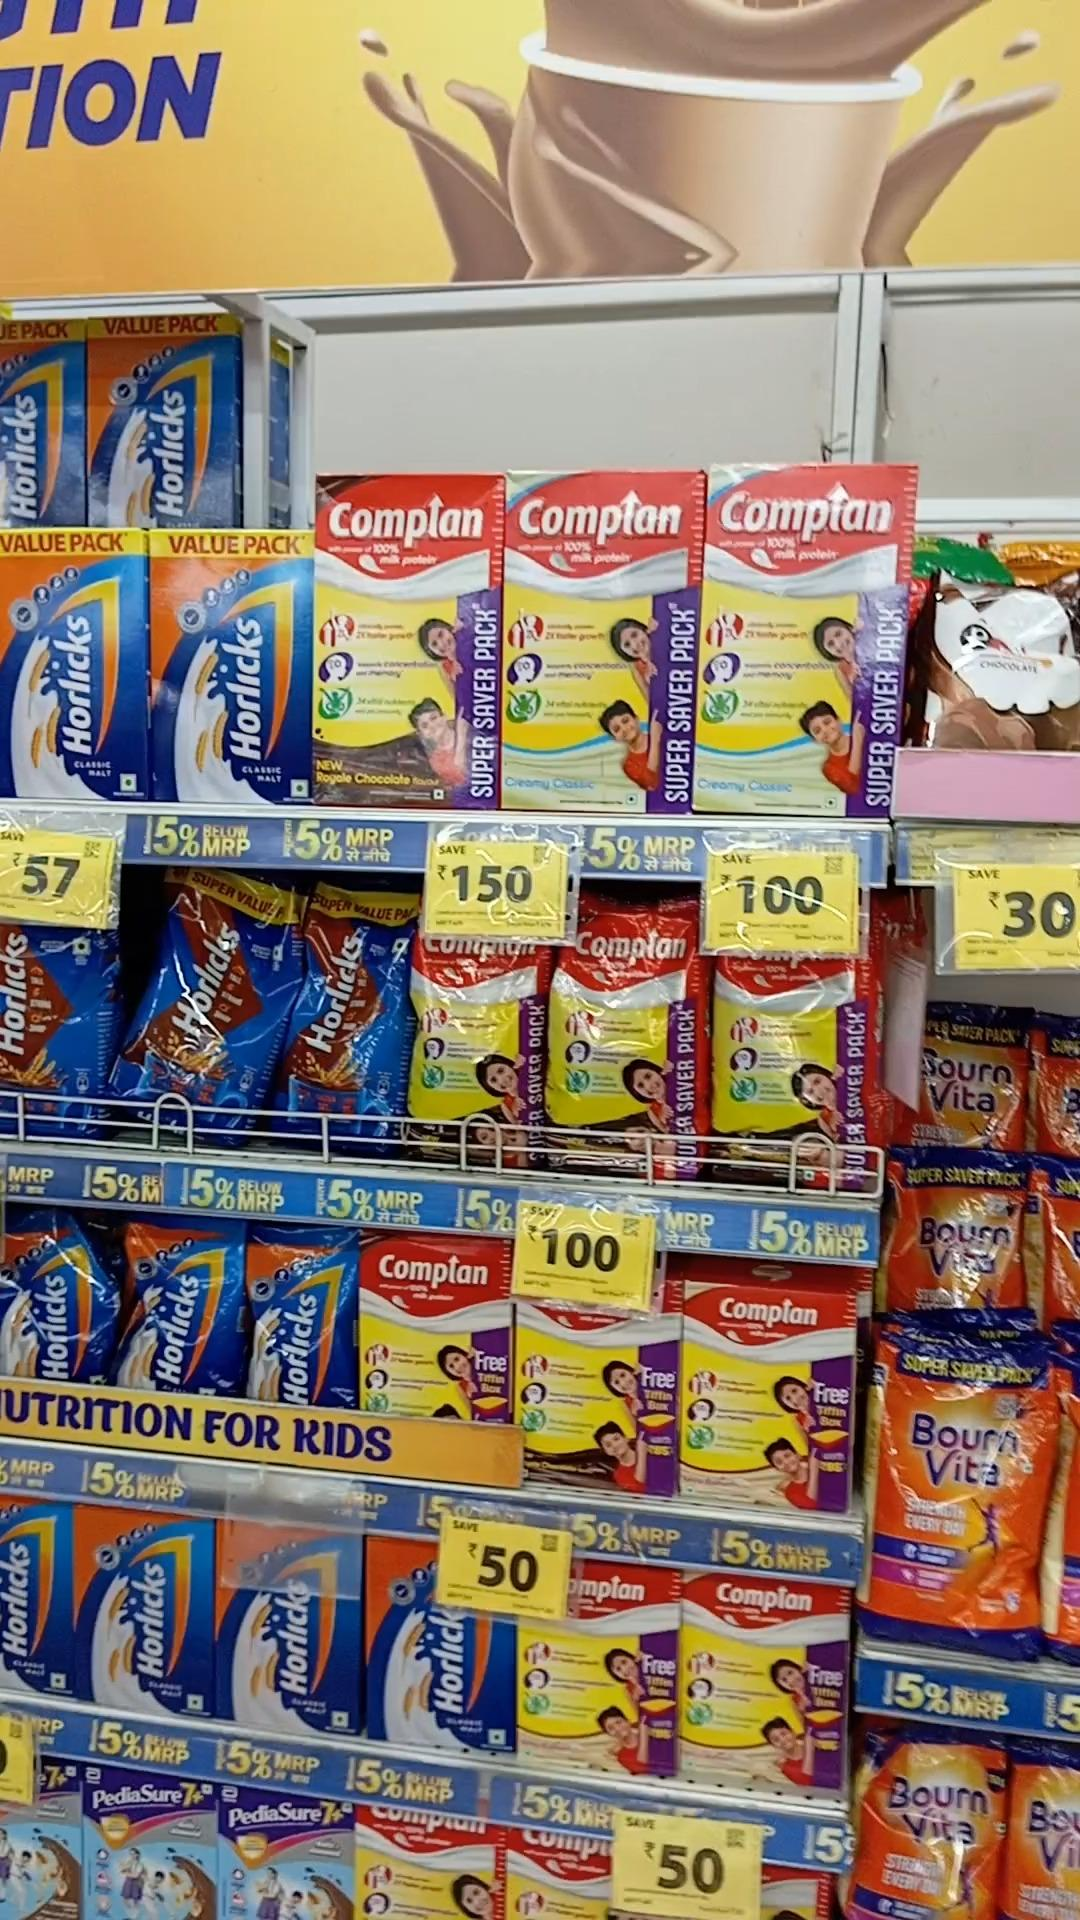BOURN_VITA_1_KG_POUCH: (872, 1338, 1056, 1644)
BOURN_VITA_750_G_POUCH: (845, 1725, 1011, 1920)
COMPLAN_CHOCOLATE_1_KG_PACK: (316, 476, 512, 808)
COMPLAN_CHOCOLATE_500_GMS_PACK: (517, 1263, 674, 1491), (356, 1242, 518, 1425)
COMPLAN_KESAR_BADAM_500_GMS_PACK: (683, 1295, 862, 1514), (516, 1563, 678, 1778), (684, 1585, 848, 1788)
COMPLAN_RC_POUCH_700_GMS_12: (551, 907, 707, 1174), (715, 953, 878, 1193), (410, 924, 549, 1168)
HORLICK_CHOCOLATE_750_G_POUCH: (144, 870, 293, 1164), (302, 877, 413, 1163)
HORLICK_CLASSIC_MALT_500_G_PACK: (363, 1540, 512, 1758), (67, 1501, 211, 1712), (214, 1527, 357, 1733)
HORLICK_CLASSIC_MALT_750_G_POUCH: (0, 1199, 123, 1379), (127, 1203, 241, 1394), (247, 1224, 352, 1406)
PEDIASURE_7_PLUS_CHOCOLATE_400_G_PACK: (215, 1784, 352, 1920), (88, 1779, 218, 1920)
